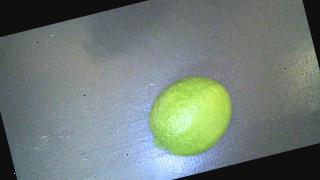EXPORTACION: (141, 68, 241, 164)
